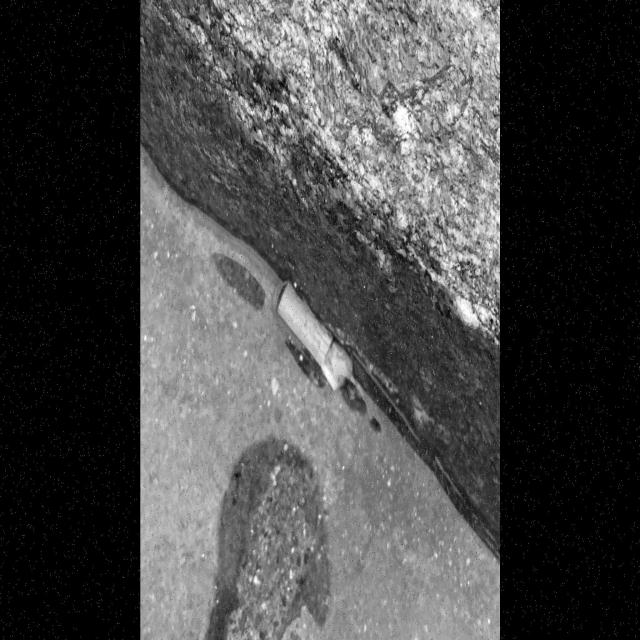other waste: (276, 281, 354, 392)
